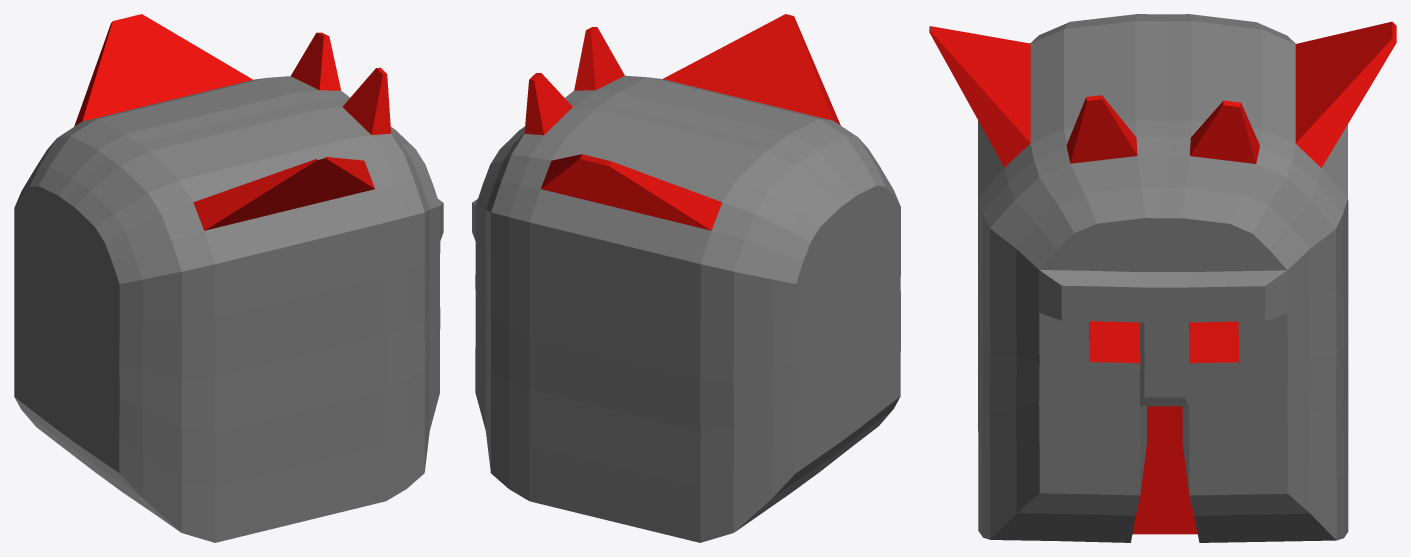
The model's file is BossHelmet.fbx.
3 renders of one model, left to right at view 1: azimuth 30°, elevation 25°; view 2: azimuth 150°, elevation 25°; view 3: azimuth 270°, elevation 25°, orthographic. The views are drawn at different scales.
Visible parts, largest first — view 1: Plane; view 2: Plane; view 3: Plane.
Part boxes in pixels (x1=…): Plane: x1=14, y1=14, x2=443, y2=542; Plane: x1=472, y1=14, x2=900, y2=542; Plane: x1=929, y1=14, x2=1396, y2=542.
Bounding box in the file's own units: 1257 × 1395 × 1275.
